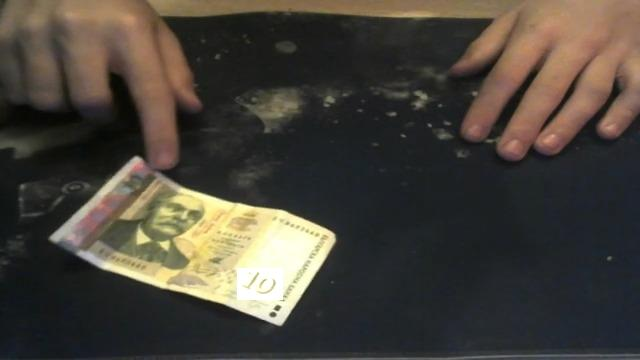10leva: (95, 189, 206, 277), (237, 268, 283, 300)
